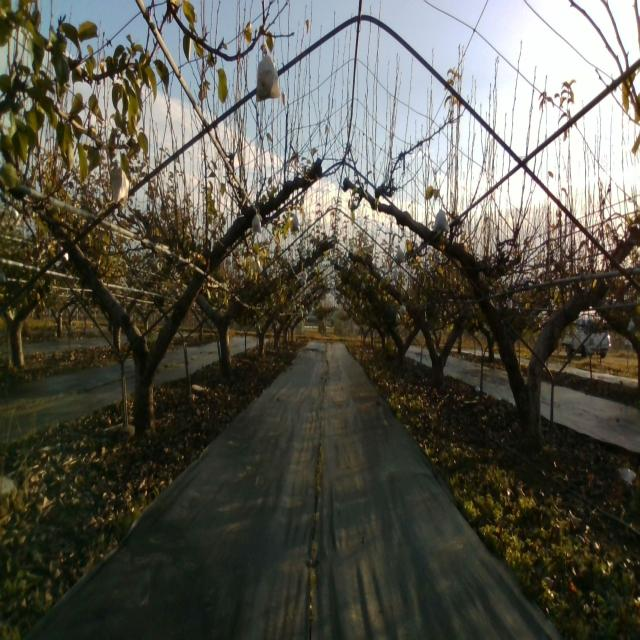pearbags: (254, 42, 280, 100), (108, 163, 130, 206), (432, 209, 450, 233), (252, 208, 262, 234)
